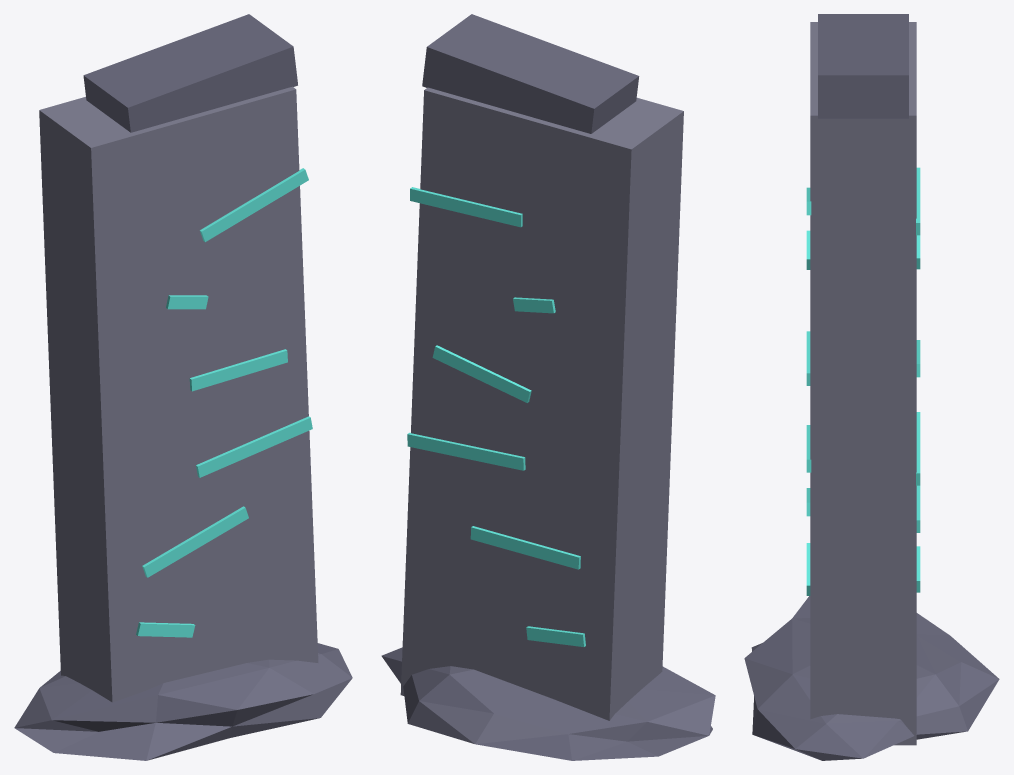
File: ET_Rock_RuneMonolith.obj
3 views of the same model, side by side, from view 1: azimuth 30°, elevation 25°; view 2: azimuth 150°, elevation 25°; view 3: azimuth 270°, elevation 25° (orthographic). The views are drawn at different scales.
Parts seen in each view (by area): view 1: monolith, base, cap, rune_2_0.72, rune_5_0.72, rune_1_0.72, rune_3_0.72, rune_0_0.72, rune_4_0.72; view 2: monolith, base, cap, rune_2_-0.72, rune_5_-0.72, rune_1_-0.72, rune_3_-0.72, rune_0_-0.72, rune_4_-0.72; view 3: monolith, base, cap.
Part boxes in pixels (x1,y1,x2,y2): monolith: [39, 86, 318, 702]; base: [14, 643, 352, 760]; cap: [83, 14, 297, 132]; rune_2_0.72: [196, 416, 312, 477]; rune_5_0.72: [200, 168, 308, 242]; rune_1_0.72: [142, 506, 248, 577]; rune_3_0.72: [189, 349, 287, 391]; rune_0_0.72: [136, 622, 195, 637]; rune_4_0.72: [166, 295, 208, 309]; monolith: [400, 87, 683, 720]; base: [381, 647, 715, 760]; cap: [422, 14, 639, 133]; rune_2_-0.72: [407, 432, 525, 470]; rune_5_-0.72: [410, 187, 522, 227]; rune_1_-0.72: [470, 526, 580, 569]; rune_3_-0.72: [432, 345, 531, 402]; rune_0_-0.72: [526, 626, 585, 646]; rune_4_-0.72: [513, 297, 555, 313]; monolith: [810, 22, 916, 745]; base: [744, 596, 999, 760]; cap: [818, 14, 908, 118].
Size of the model in its own units: 5.05 by 9.71 by 3.37.
